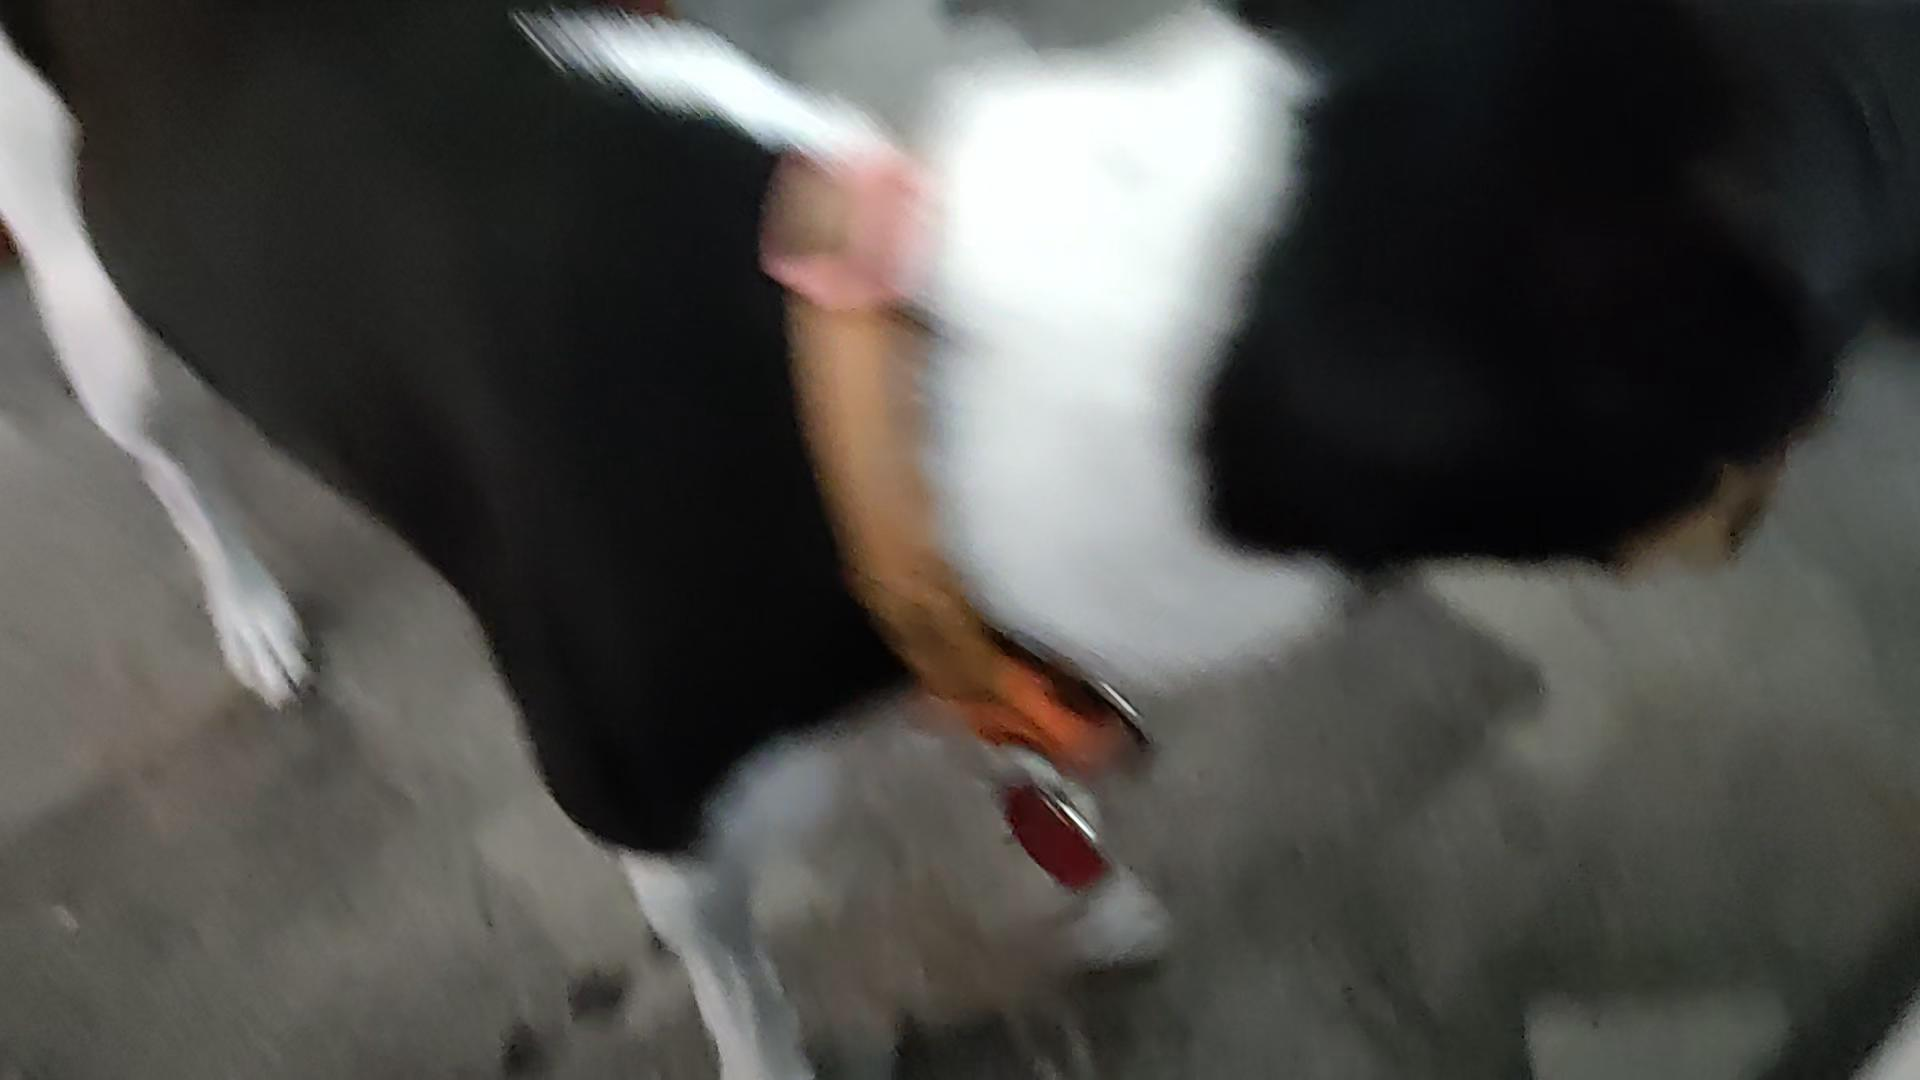Dog: (0, 0, 1867, 1079)
